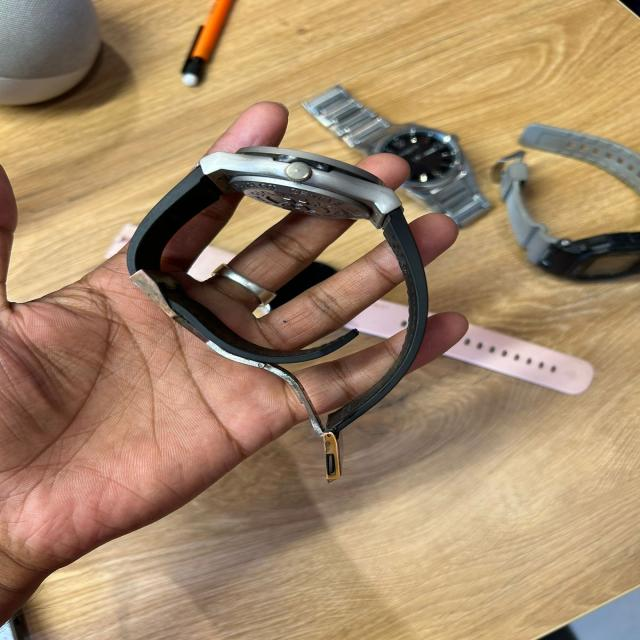watch: (124, 144, 430, 482), (299, 82, 493, 230)
